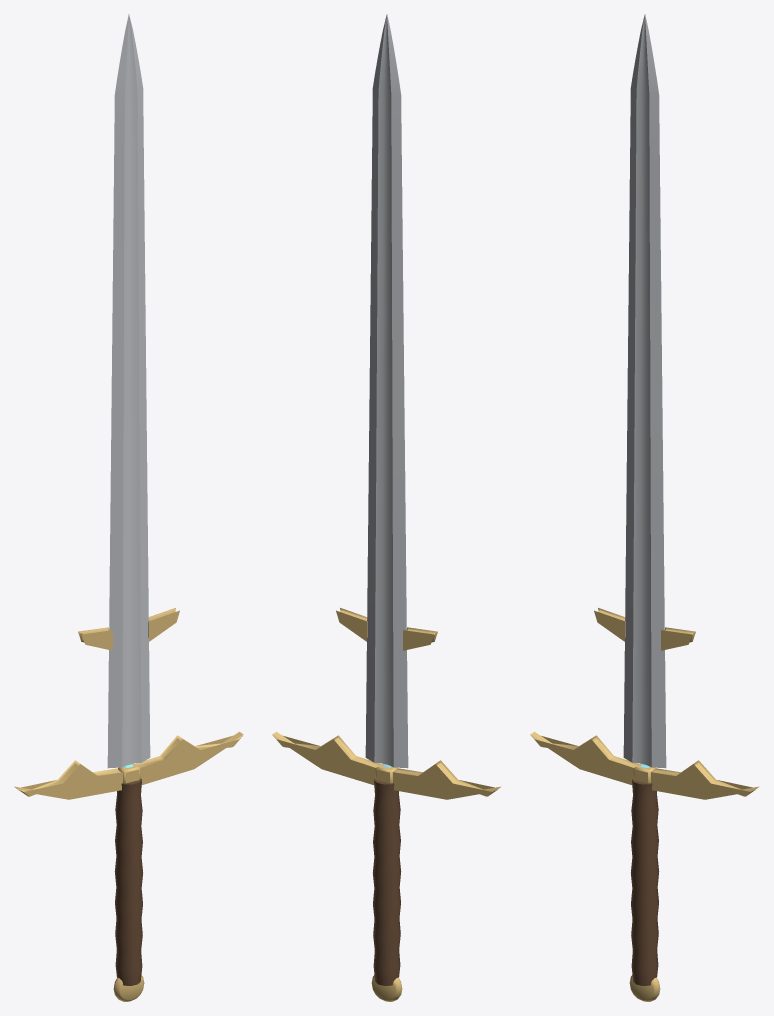
Rendered from titan_greatsword.glb.
The picture shows the model from 3 angles, left to right: view 1: azimuth 30°, elevation 25°; view 2: azimuth 150°, elevation 25°; view 3: azimuth 330°, elevation 25°; orthographic projection.
Visible parts, largest first — view 1: titan_greatsword; view 2: titan_greatsword; view 3: titan_greatsword.
Boxes of the visible parts, x1,y1,x2,y2 form: titan_greatsword: (14,14,243,1001); titan_greatsword: (272,14,501,1001); titan_greatsword: (530,14,759,1001).
Bounding box in the file's own units: 0.397 × 1.66 × 0.0414.
